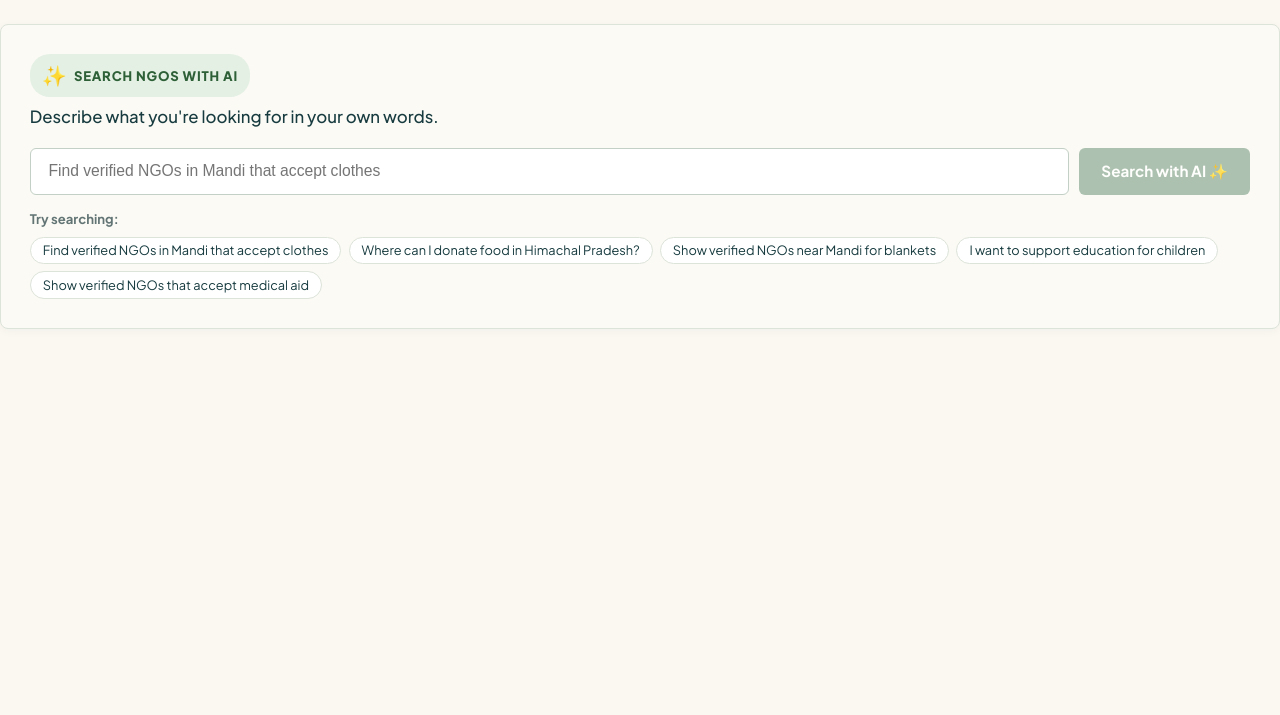
Feature 3: AI-Powered NGO Search UI › 3. displays parsed search intent pills above matching results
Step 1. Type "I want to support education for children" into the search field with placeholder "Find verified NGOs in Mandi that accept clothes" → (550, 171), box [30,148,1069,195]
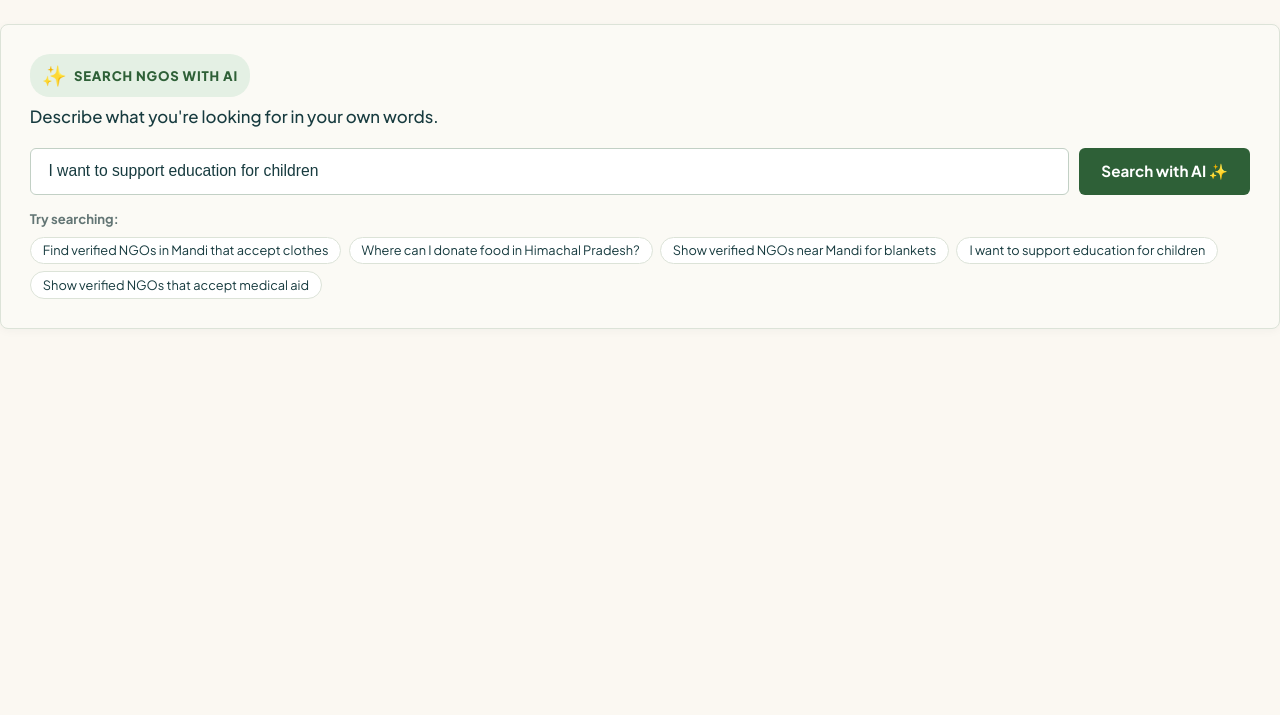
Step 2. Click the button "Search with AI ✨" → (1165, 171), box [1079,148,1250,195]
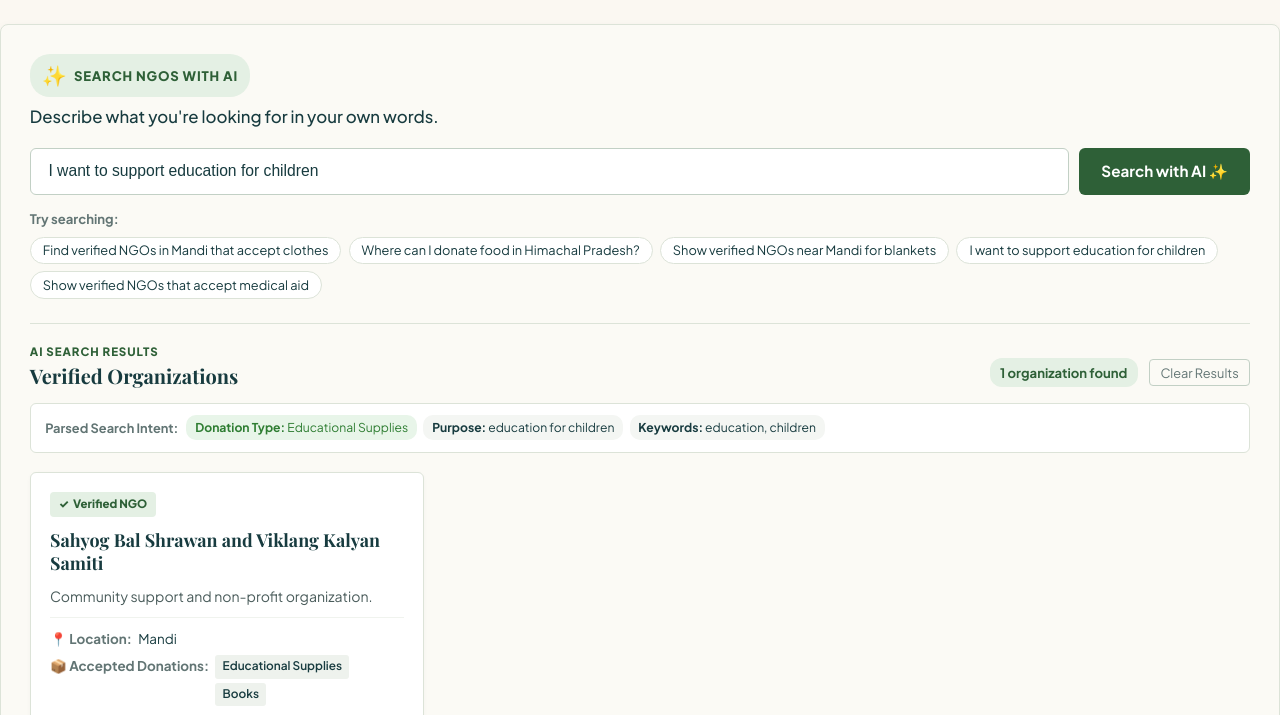
Expected: the text "Parsed Search Intent:" is shown, [45,418,178,438]
Expected: the heading "Sahyog Bal Shrawan and Viklang Kalyan Samiti" is shown, [50,528,404,575]
